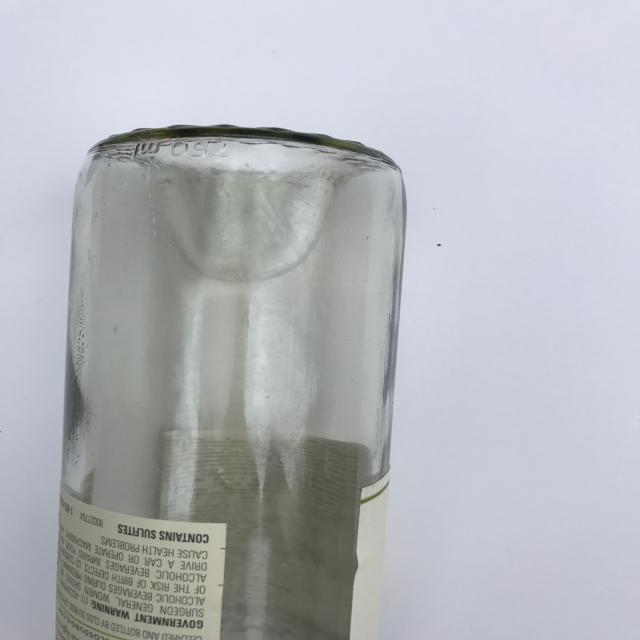Glass: (45, 111, 424, 640)
